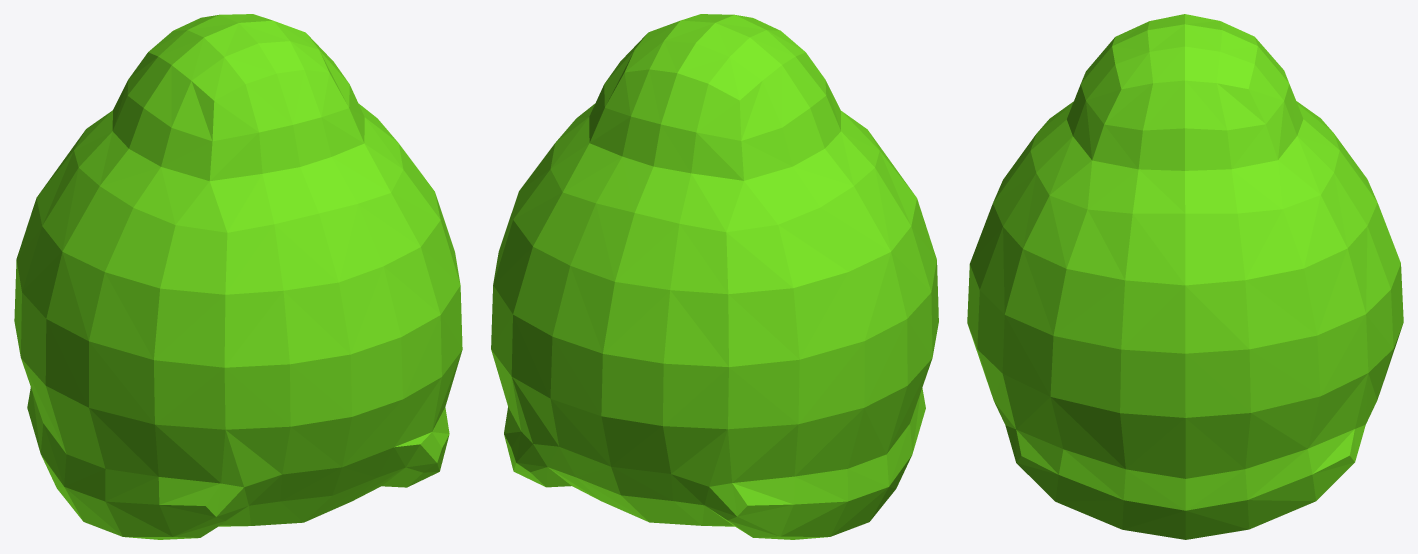
3 renders of one model, left to right at view 1: azimuth 30°, elevation 25°; view 2: azimuth 150°, elevation 25°; view 3: azimuth 270°, elevation 25°, orthographic. The views are drawn at different scales.
Parts seen in each view (by area): view 1: Object_3.002; view 2: Object_3.002; view 3: Object_3.002.
Boxes of the visible parts, x1,y1,x2,y2 form: Object_3.002: [14, 14, 462, 539]; Object_3.002: [491, 14, 938, 539]; Object_3.002: [967, 14, 1403, 539].
Bounding box in the file's own units: 5.01 × 6.02 × 5.11.
